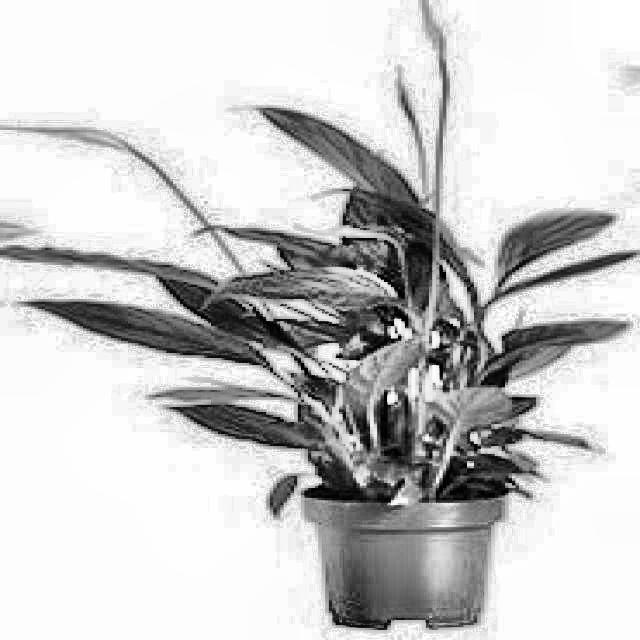plants: (87, 111, 616, 629)
